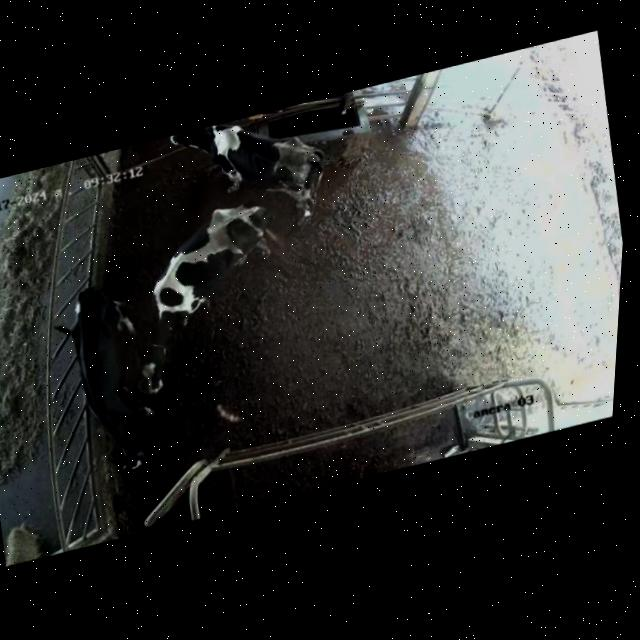stand: (110, 189, 309, 407), (158, 96, 335, 250), (49, 272, 172, 490)
